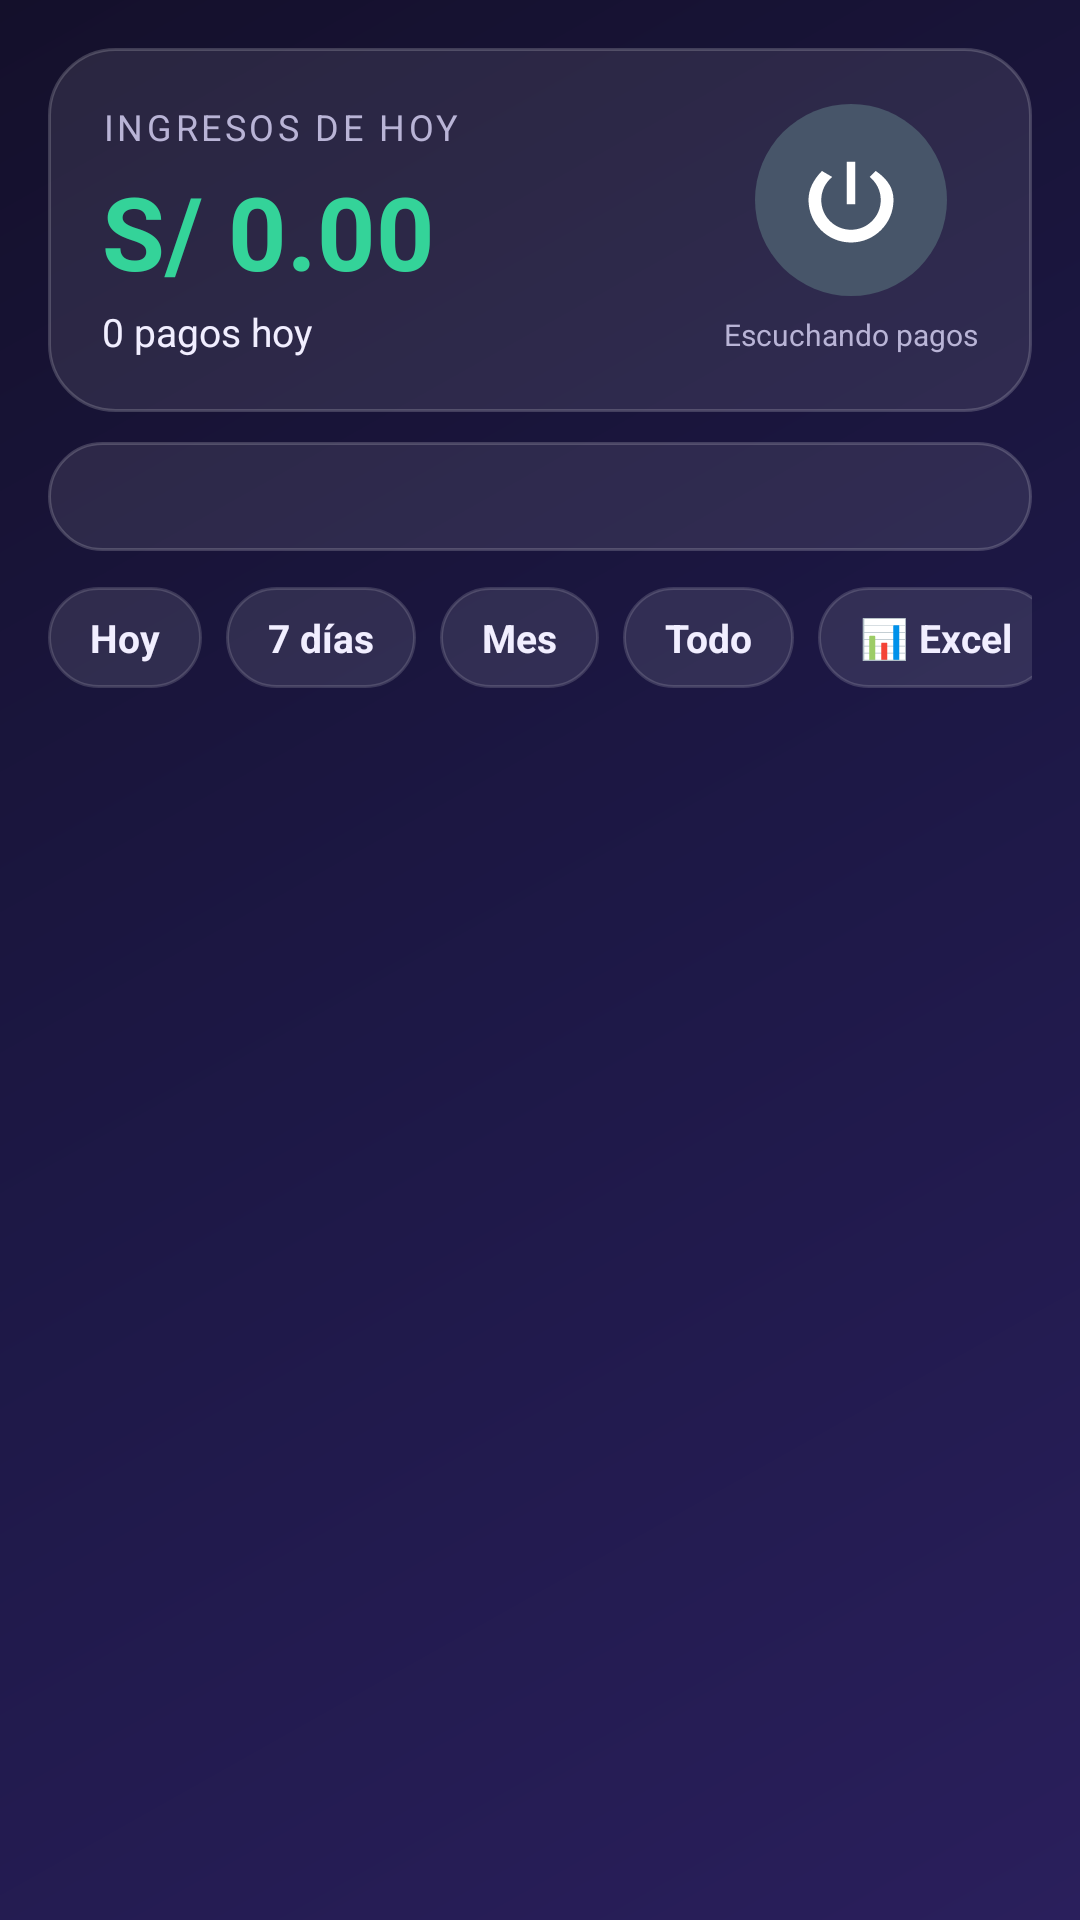

Named icons in this screenshot (1080 × 1920) and their centers, point (x, y):
Encender o dormir el modo escucha: point (851, 200)
